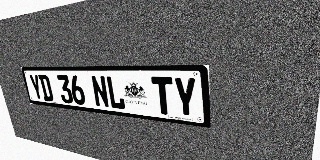3: (56, 75, 74, 104)
6: (68, 75, 86, 105)
D: (38, 75, 54, 102)
L: (105, 76, 126, 110)
N: (90, 75, 110, 108)
T: (151, 77, 175, 116)
Y: (173, 77, 198, 118), (28, 74, 44, 100)
